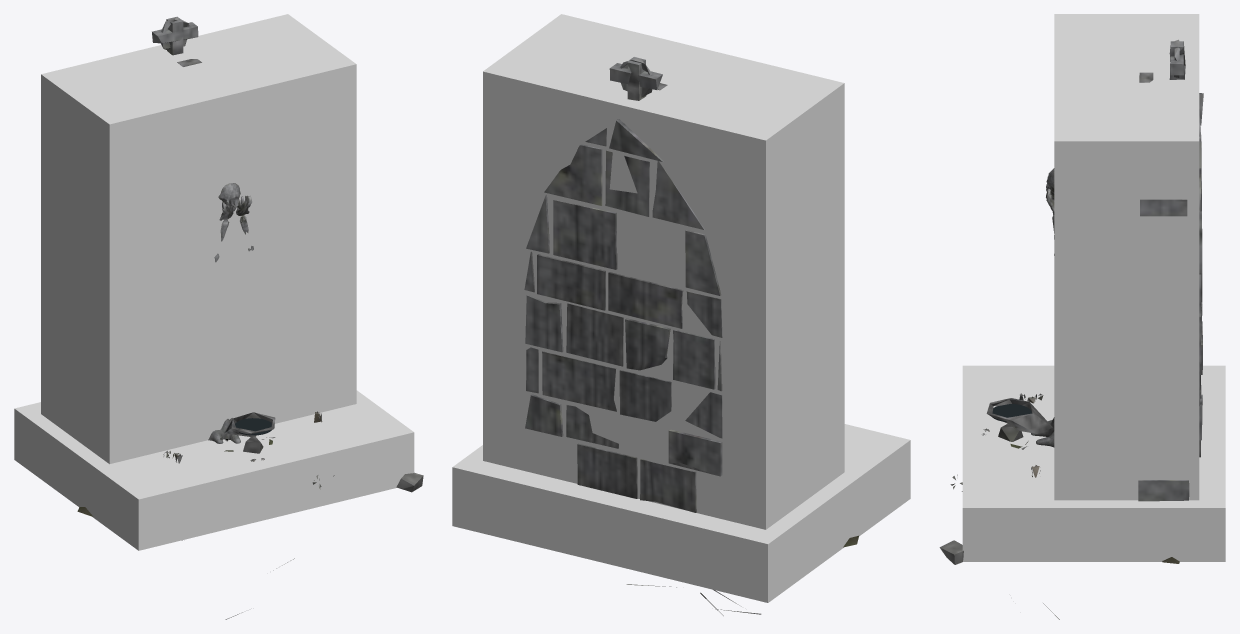
Rendered from shrine_weeping_angel.glb.
3 renders of one model, left to right at view 1: azimuth 30°, elevation 25°; view 2: azimuth 150°, elevation 25°; view 3: azimuth 270°, elevation 25°, orthographic. The views are drawn at different scales.
Visible parts, largest first — view 1: col_shrine_niche, col_shrine_plinth, shrine_body; view 2: col_shrine_niche, shrine_body, col_shrine_plinth; view 3: col_shrine_niche, col_shrine_plinth, shrine_body, water_basin.
Part boxes in pixels (<box>): col_shrine_niche: <box>41,14,356,464</box>; col_shrine_plinth: <box>14,390,414,550</box>; shrine_body: <box>77,16,423,619</box>; col_shrine_niche: <box>483,14,844,529</box>; shrine_body: <box>524,57,858,615</box>; col_shrine_plinth: <box>452,424,910,602</box>; col_shrine_niche: <box>1054,14,1199,500</box>; col_shrine_plinth: <box>962,365,1225,561</box>; shrine_body: <box>939,39,1203,619</box>; water_basin: <box>992,404,1031,421</box>.
Bounding box in the file's own units: 1.82 × 3.24 × 1.48.
Materials: 3 (2 with a texture image).
